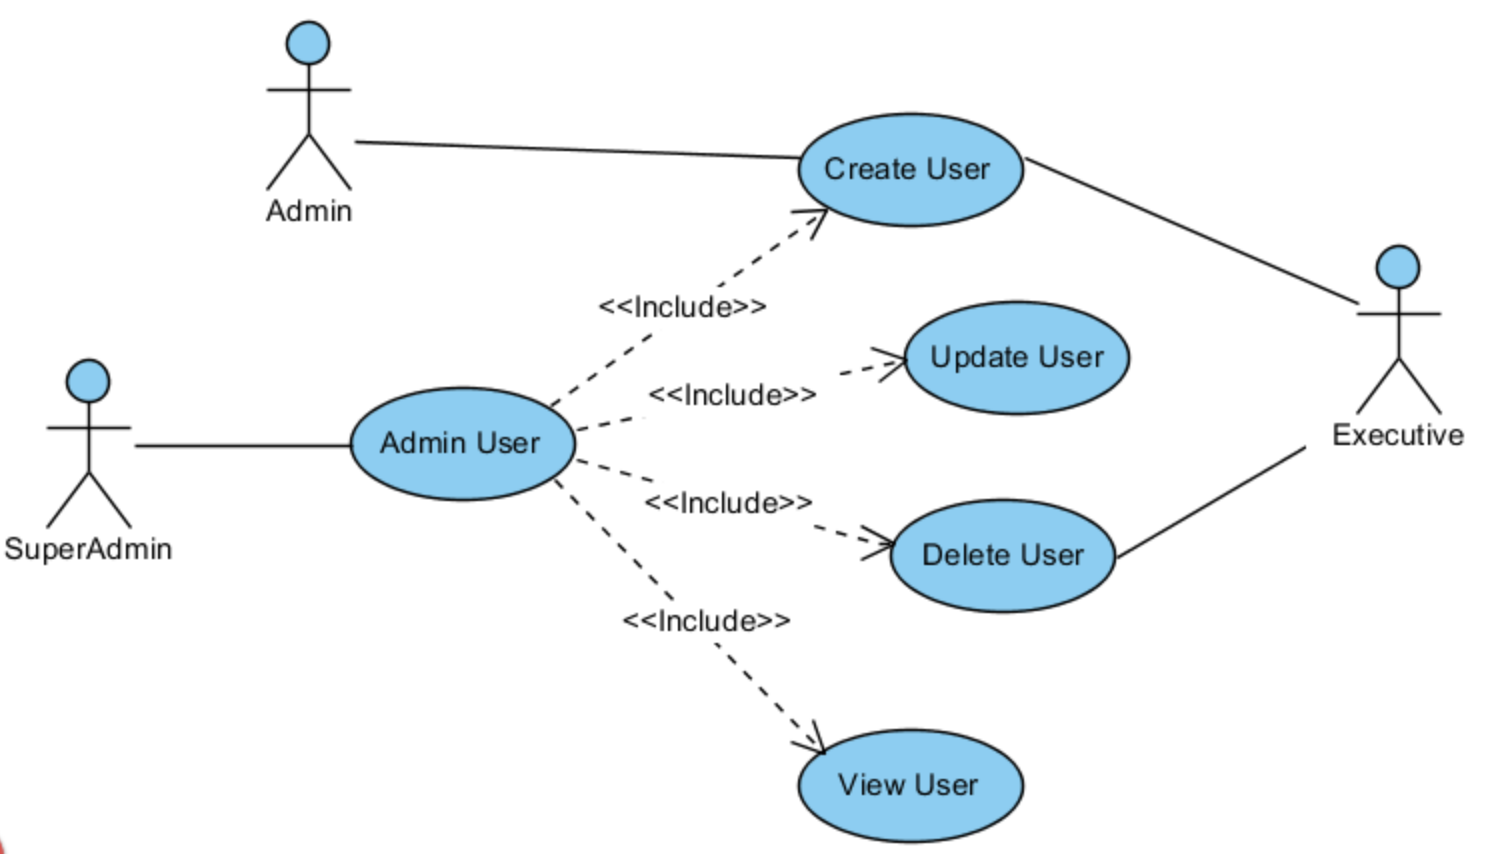actor: (260, 9, 361, 196), (40, 352, 140, 537), (1352, 242, 1452, 417)
association: (558, 479, 826, 757), (551, 205, 832, 405), (1023, 154, 1360, 307), (578, 457, 893, 565), (577, 339, 906, 440), (1117, 441, 1310, 559), (354, 129, 797, 171), (135, 425, 351, 463)
text: (650, 373, 828, 426), (614, 598, 807, 642), (817, 146, 1002, 191), (926, 334, 1109, 379), (830, 764, 989, 813), (917, 534, 1092, 578), (636, 482, 819, 523), (592, 286, 778, 326), (1, 532, 182, 573), (1318, 412, 1482, 454), (381, 424, 547, 462), (258, 195, 370, 232)
use_case: (795, 725, 1024, 847), (795, 109, 1026, 229), (902, 299, 1133, 419), (889, 495, 1119, 616), (348, 384, 579, 503)
